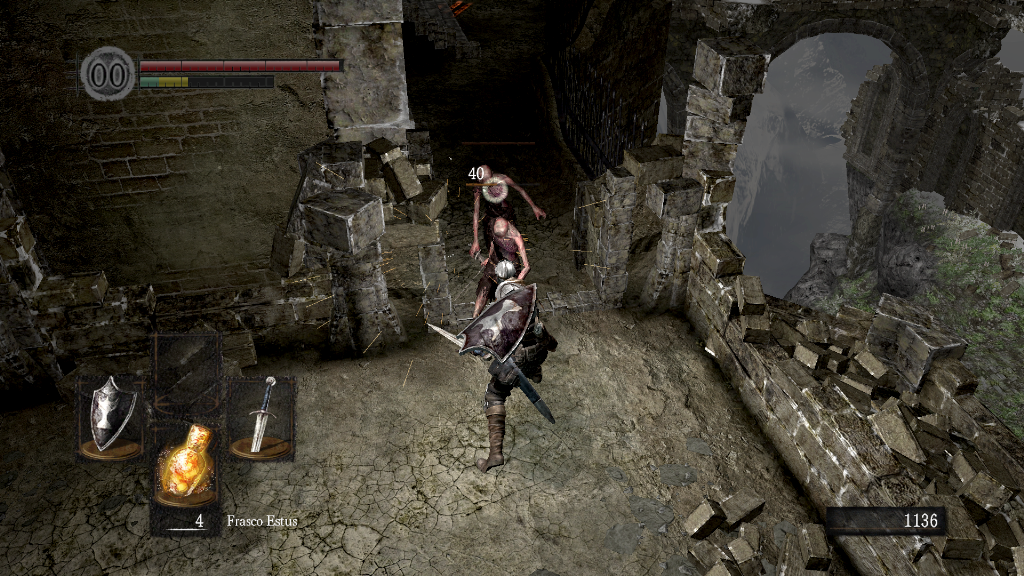health: (138, 58, 343, 71)
hollow: (466, 164, 548, 276), (471, 218, 531, 336)
humanity: (80, 45, 136, 102)
player: (420, 260, 561, 472)
souls: (825, 506, 945, 536)
stamina: (138, 74, 274, 88)
